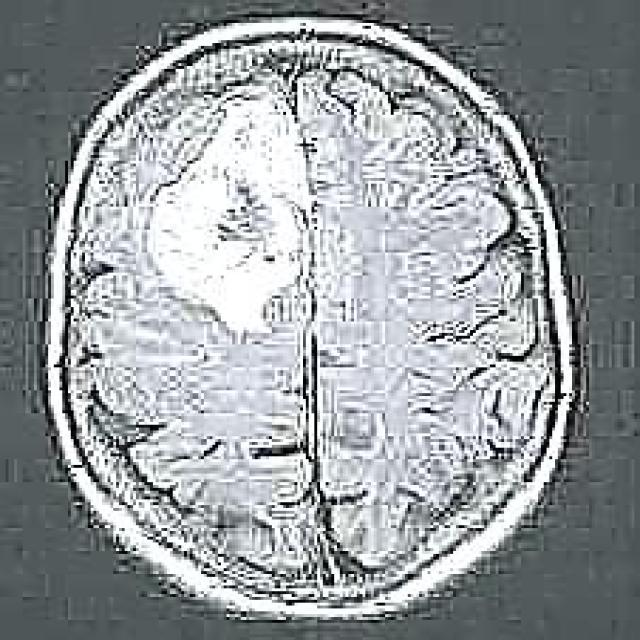Tumor-Cell: (157, 115, 315, 313)
